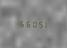five: (36, 20, 41, 28)
one: (42, 20, 47, 28)
six: (18, 19, 23, 27), (24, 19, 29, 27)
zero: (30, 19, 35, 28)
